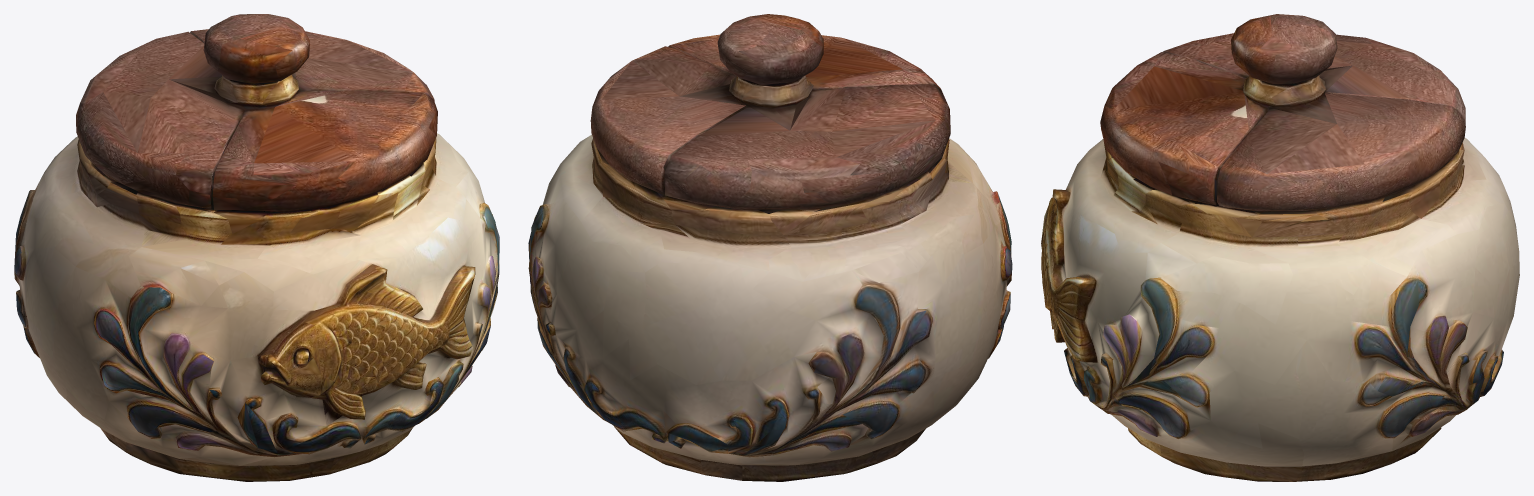
File: bait_jar.glb
3 renders of one model, left to right at view 1: azimuth 30°, elevation 25°; view 2: azimuth 150°, elevation 25°; view 3: azimuth 270°, elevation 25°, orthographic.
Parts seen in each view (by area): view 1: tripo_node_44e244d5-6396-4d77-b130-c2ca701e9bef; view 2: tripo_node_44e244d5-6396-4d77-b130-c2ca701e9bef; view 3: tripo_node_44e244d5-6396-4d77-b130-c2ca701e9bef.
Part boxes in pixels (left/top/right/bottom): tripo_node_44e244d5-6396-4d77-b130-c2ca701e9bef: left=14, top=14, right=499, bottom=481; tripo_node_44e244d5-6396-4d77-b130-c2ca701e9bef: left=528, top=14, right=1012, bottom=481; tripo_node_44e244d5-6396-4d77-b130-c2ca701e9bef: left=1041, top=14, right=1519, bottom=481.
Size of the model in its own units: 0.2445 by 0.22 by 0.2445.
Materials: 1 (1 with a texture image).
